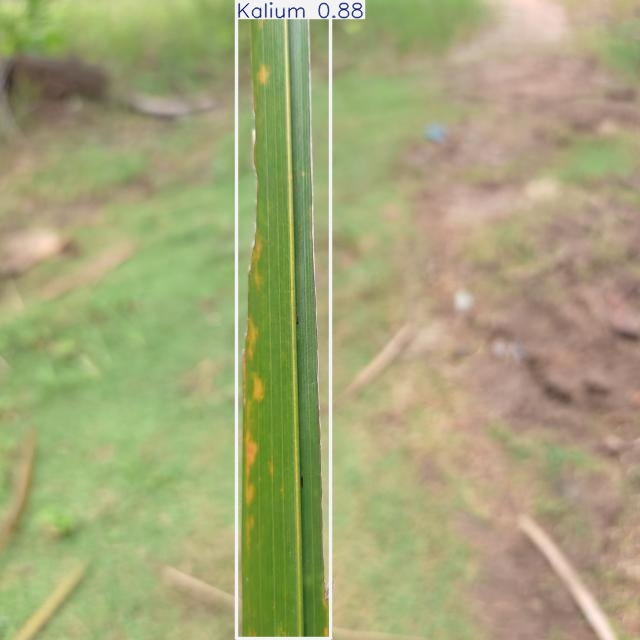Kalium: (237, 0, 330, 639)
